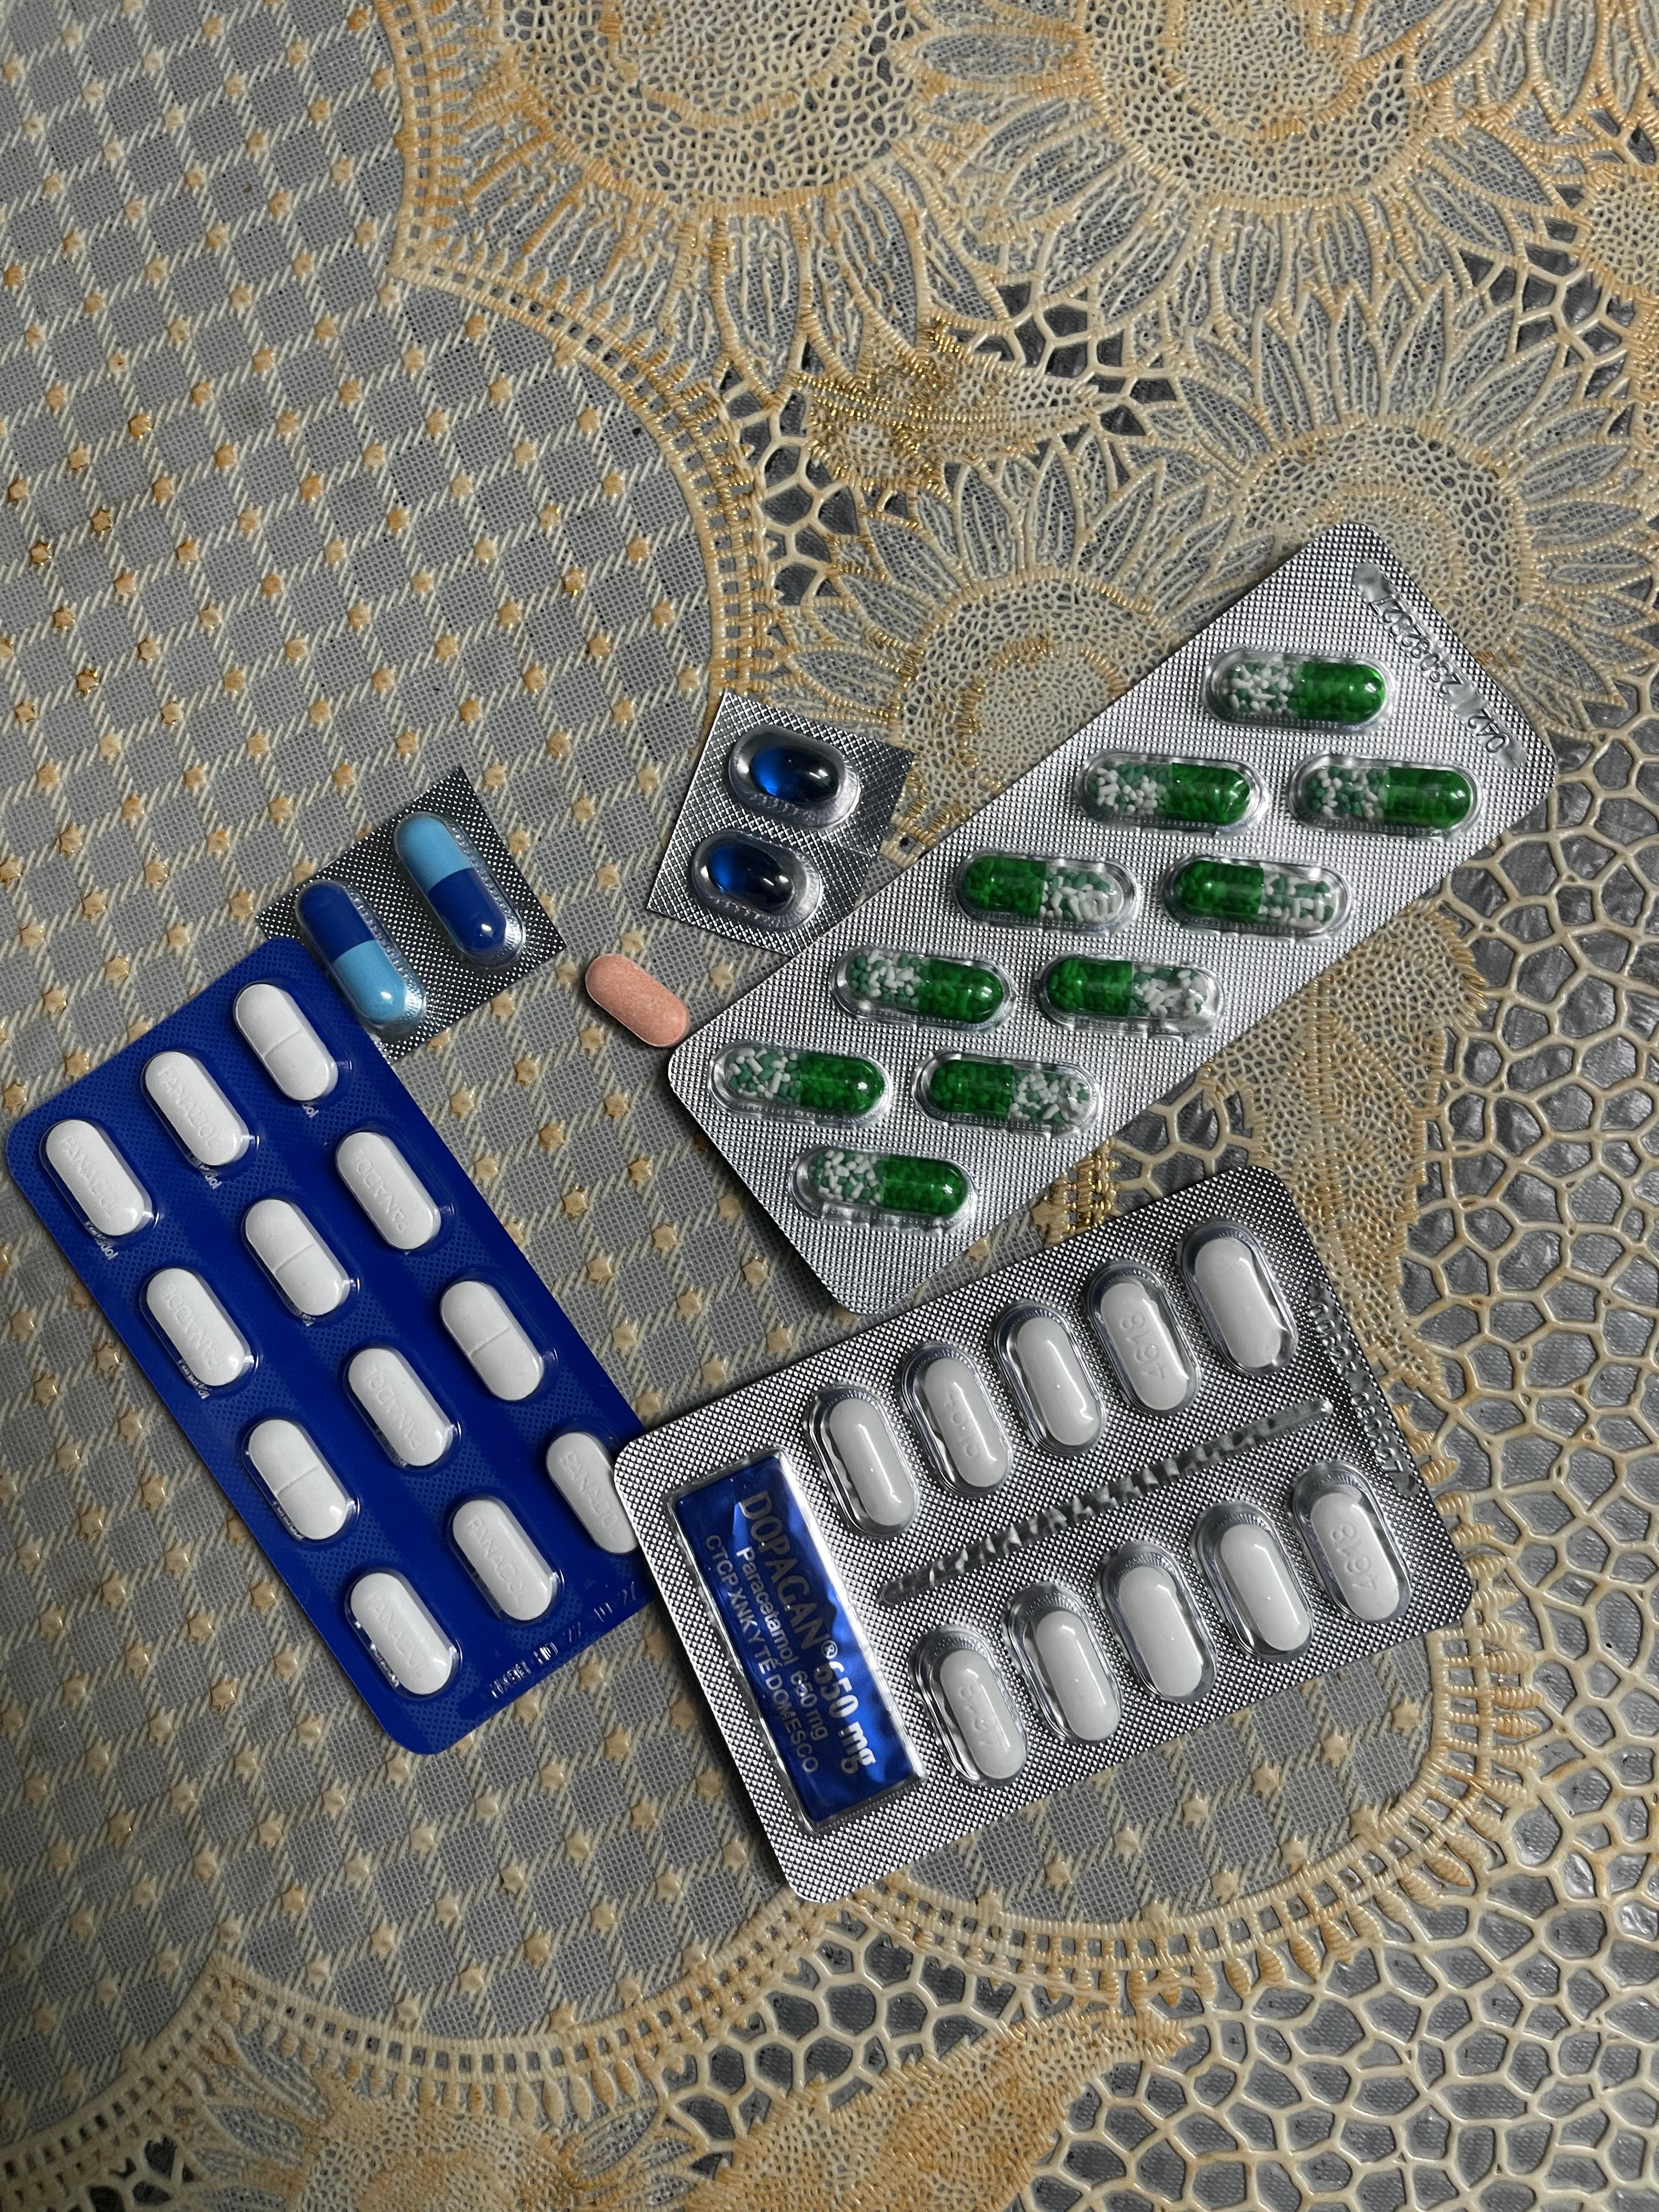Lincomyxin_500mg: (708, 840, 793, 907), (751, 744, 838, 806)
Loratadine_10mg: (584, 953, 690, 1049)
Paracetamol_350mg: (347, 1569, 458, 1696), (141, 1268, 253, 1395), (448, 1496, 559, 1622), (345, 1345, 457, 1470), (242, 1198, 356, 1320), (244, 1418, 354, 1541), (439, 1278, 549, 1402), (143, 1050, 253, 1172), (45, 1120, 153, 1242), (336, 1130, 443, 1252), (234, 989, 340, 1104), (545, 1430, 633, 1555)
Paracetamol_500mg: (1004, 1575, 1124, 1750), (1293, 1461, 1415, 1630), (1089, 1538, 1211, 1707), (1075, 1261, 1197, 1428), (908, 1622, 1030, 1784), (1199, 1496, 1314, 1662), (992, 1299, 1110, 1458), (901, 1341, 1023, 1493), (1180, 1221, 1297, 1378), (810, 1379, 922, 1534)
Paracetamol_650mg: (918, 1052, 1098, 1134), (798, 1148, 971, 1231), (714, 1038, 873, 1123), (836, 942, 999, 1024), (1037, 954, 1206, 1029), (1218, 660, 1391, 726), (1080, 759, 1246, 824), (1302, 765, 1469, 827), (1175, 862, 1338, 925), (967, 857, 1122, 921)
pill: (390, 812, 525, 975), (298, 880, 427, 1031)
